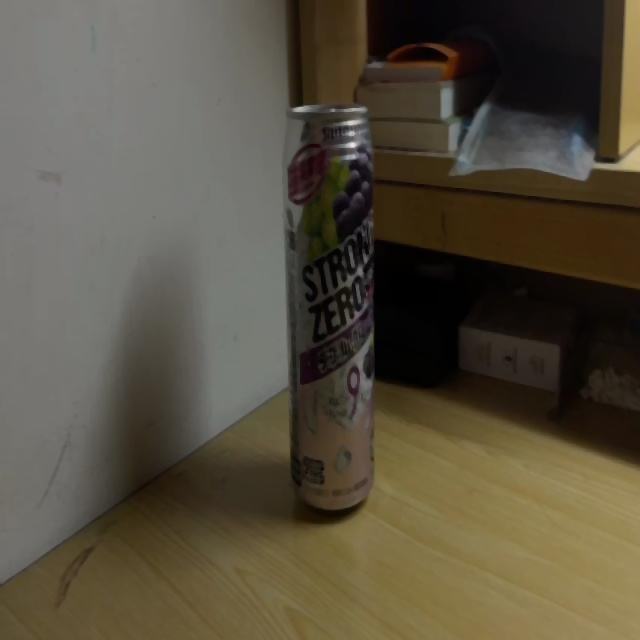Liquor: (285, 100, 376, 510)
